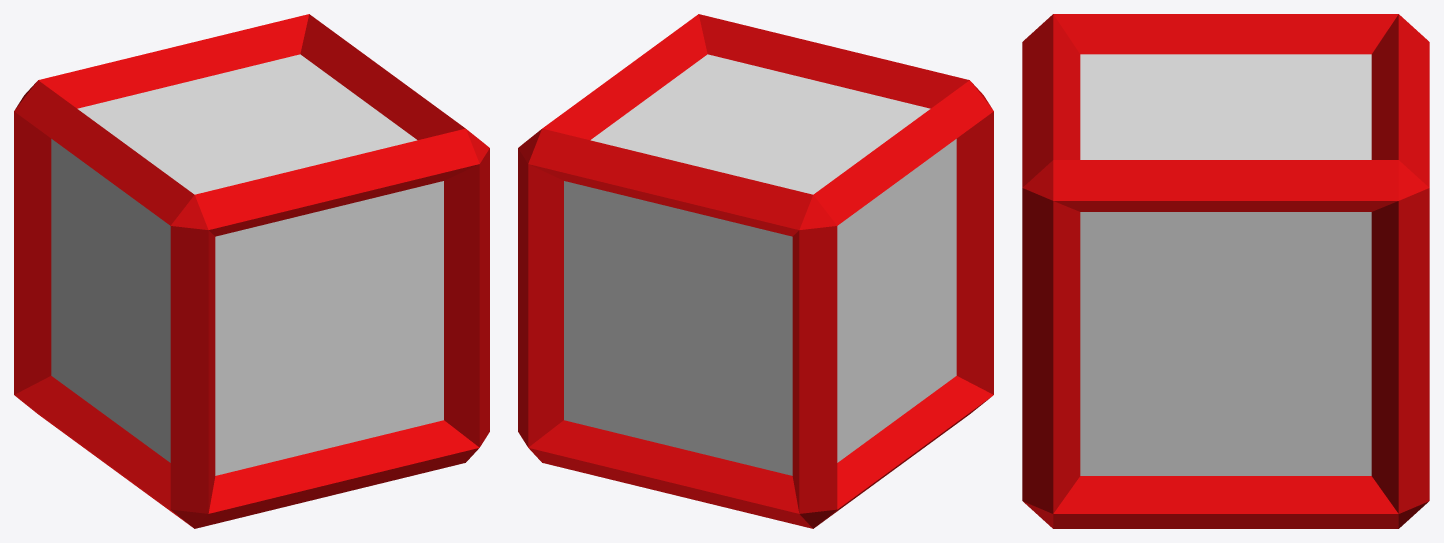
File: Storage.fbx
3 views of the same model, side by side, from view 1: azimuth 30°, elevation 25°; view 2: azimuth 150°, elevation 25°; view 3: azimuth 270°, elevation 25° (orthographic). The views are drawn at different scales.
Visible parts, largest first — view 1: Cube; view 2: Cube; view 3: Cube.
Part boxes in pixels (box(x1,y1,x2,y2)): Cube: box(14, 14, 489, 528); Cube: box(518, 14, 993, 528); Cube: box(1022, 14, 1429, 528).
Size of the model in its own units: 345 by 345 by 345.
